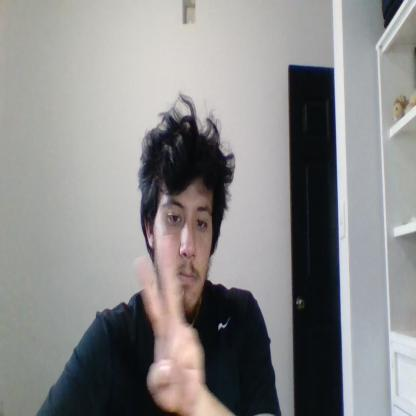V: (133, 235, 204, 410)
